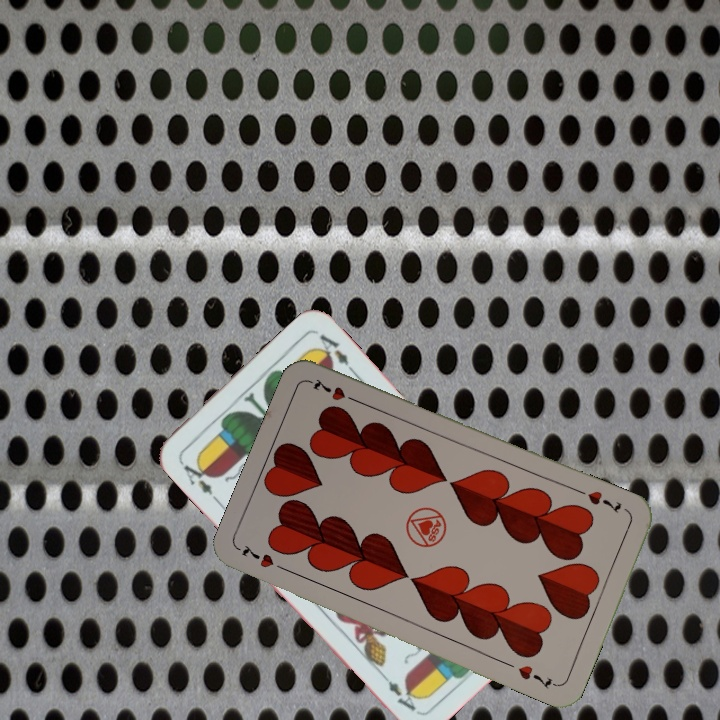EA: (175, 455, 221, 504)
H7: (238, 540, 292, 575), (583, 486, 624, 516)
